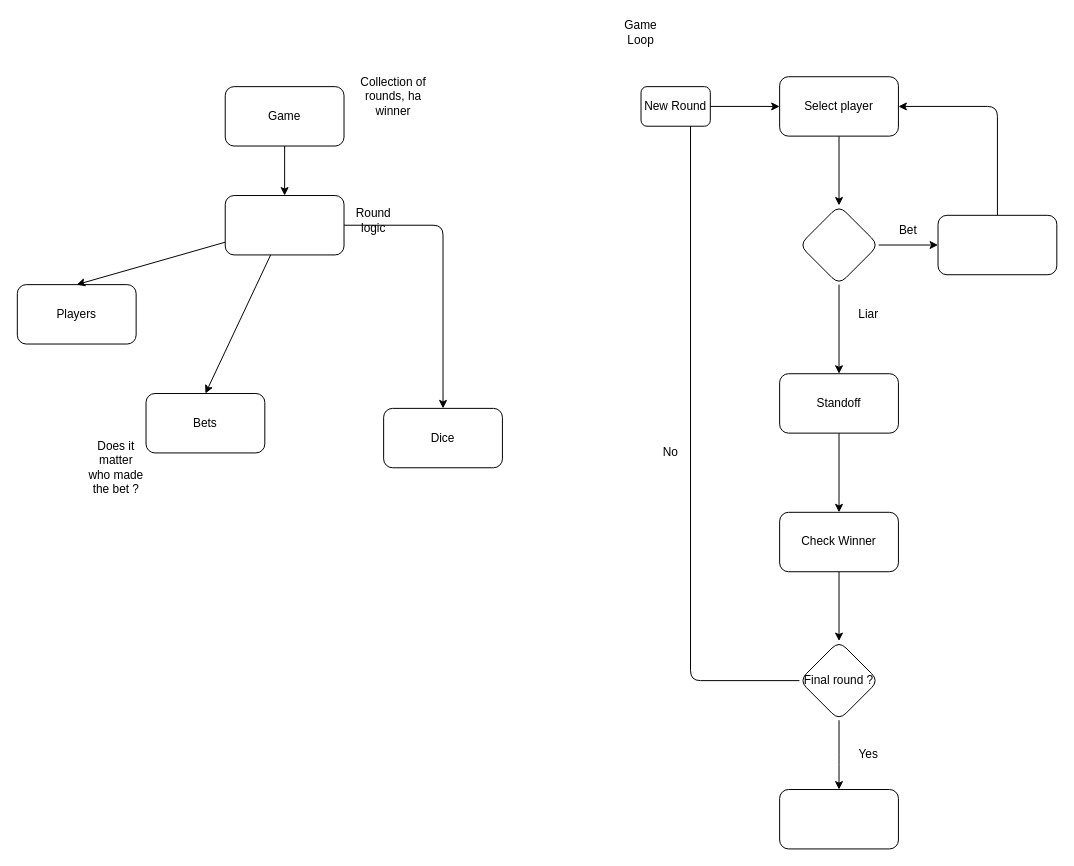
Some shapes in this 1074 by 866 pixel diagram are drawn without their labels. The shapes that lost their labels are listed below. From the top down, each one's box as (x1, y1, x2, y2) in pixels, then its label:
(224, 195, 344, 255): Rounds
(798, 204, 879, 285): Bet or Liar
(937, 214, 1057, 275): Make Higher Bet
(779, 789, 898, 849): Set Game Winner
